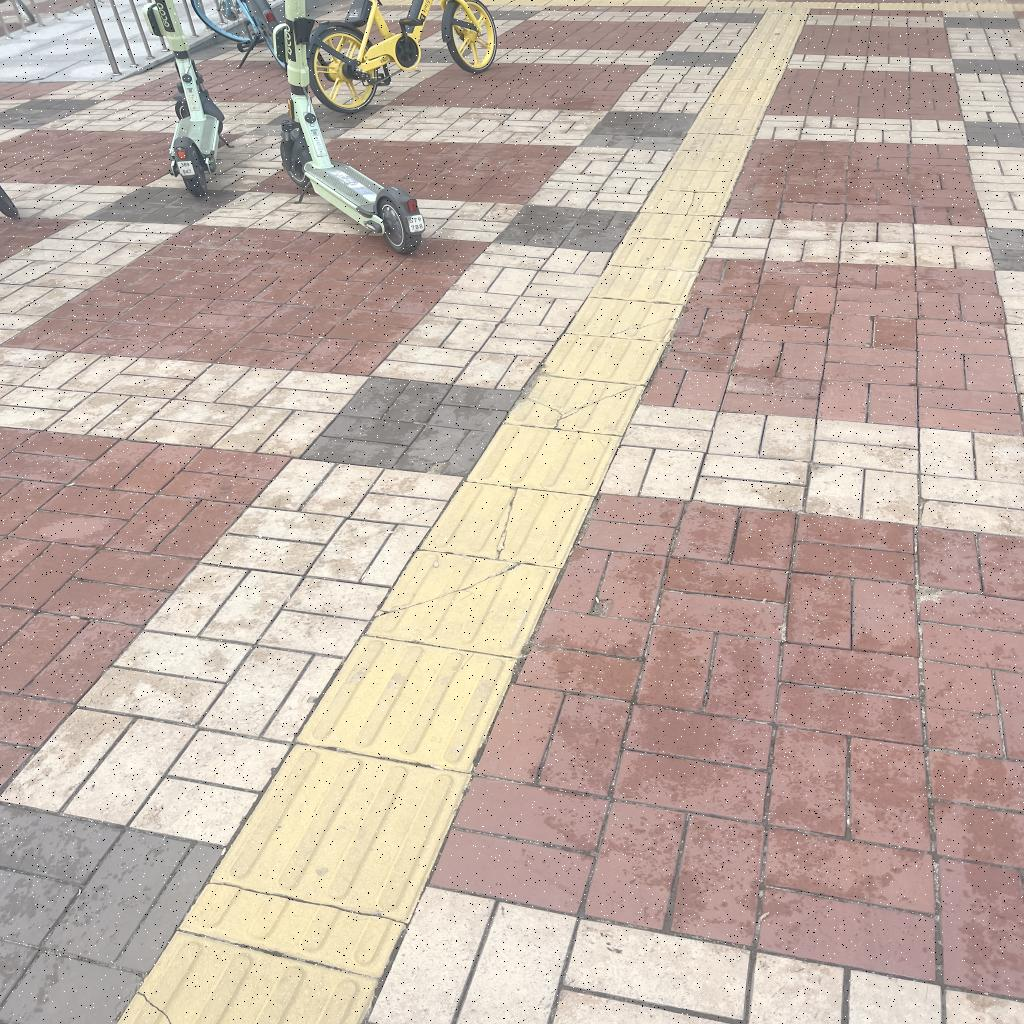Straight block broken: (366, 545, 560, 661), (421, 479, 593, 570), (504, 373, 644, 437), (566, 296, 683, 343), (641, 190, 730, 216)
Straight block normal: (212, 737, 467, 925), (297, 629, 518, 777), (467, 421, 621, 498), (537, 333, 665, 385), (590, 266, 696, 304), (609, 236, 710, 272), (626, 212, 720, 241)
